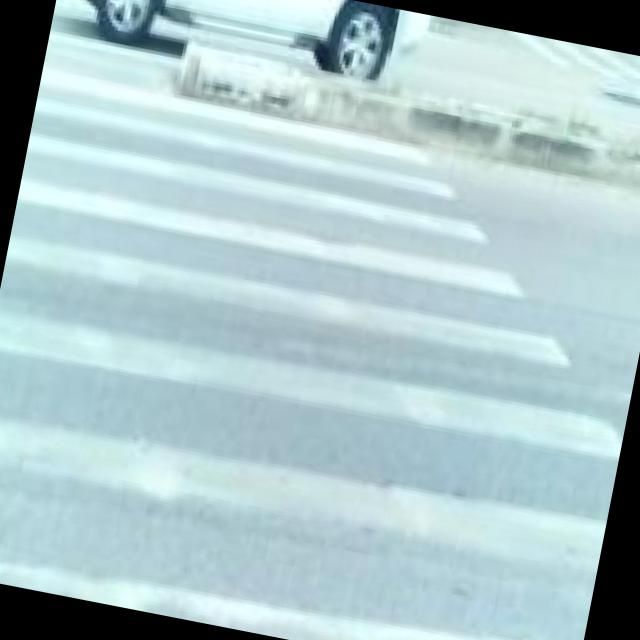zebra: (0, 61, 623, 640)
